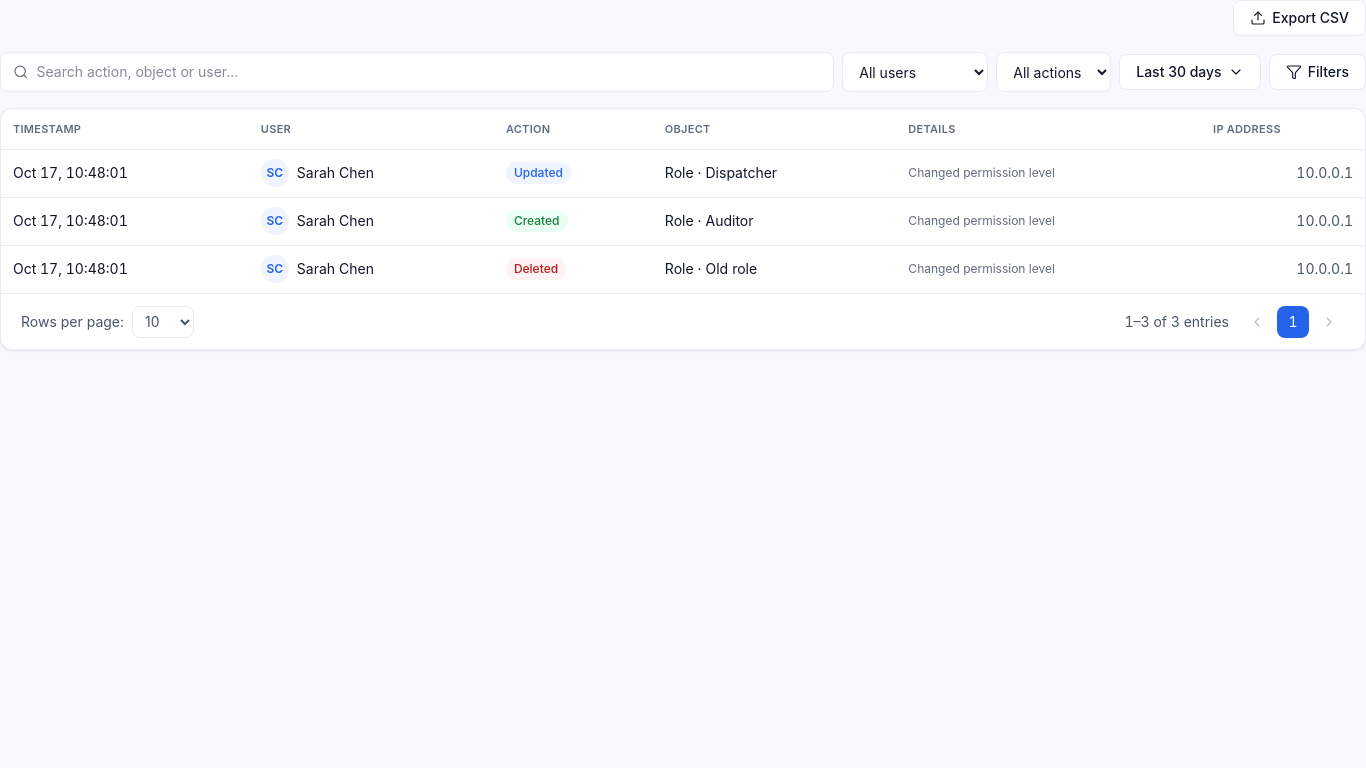
AuditLogPage — W-23 › walks the cursor chunks automatically (no Load more) and opens the before/after drawer
The width and height of the screenshot is (1366, 768).
Expected: the text "Role · Old role" is shown, [653,245,896,293]
Expected: the text "Role · Auditor" is shown, [653,197,896,245]
Click the text "Role · Dispatcher" at point(775, 173), box [653,149,896,197]
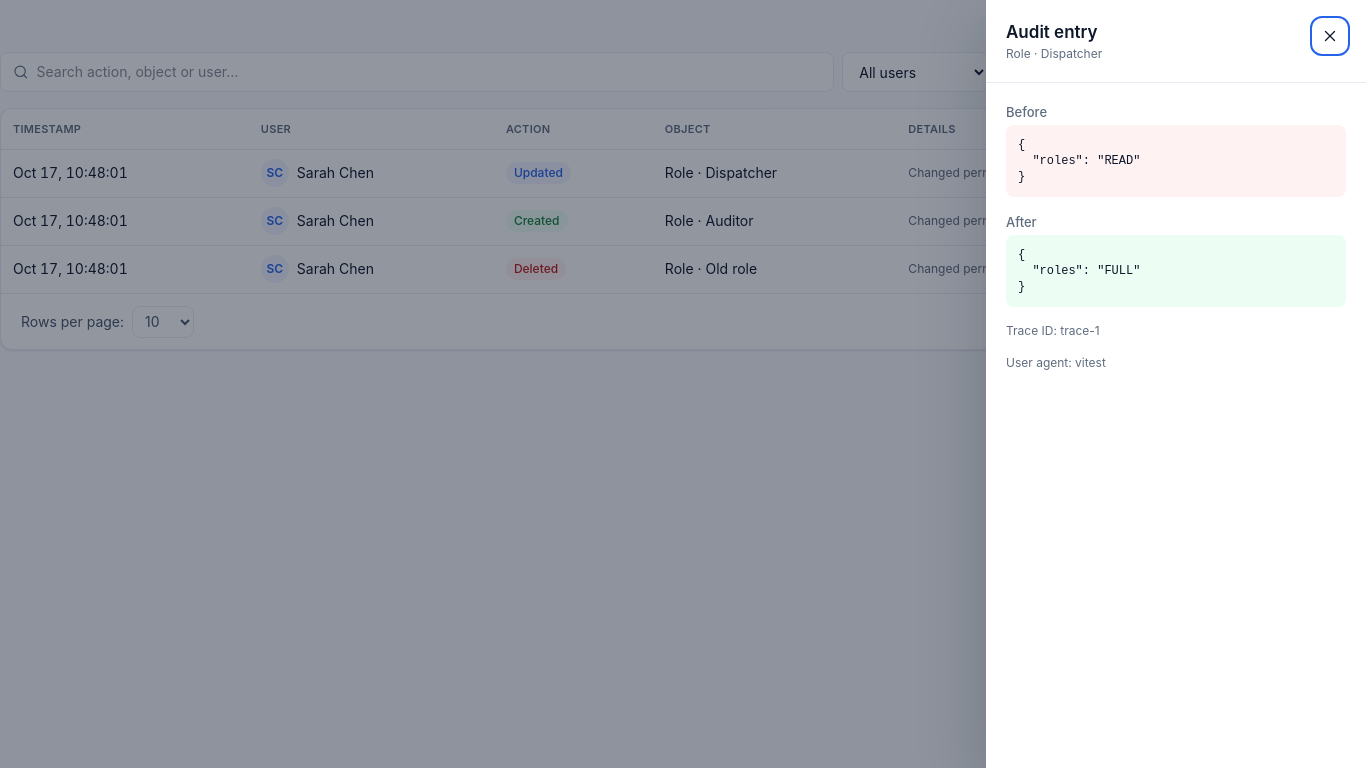
Now the text "Trace ID: trace-1" is shown, box [1006,323,1100,338]
